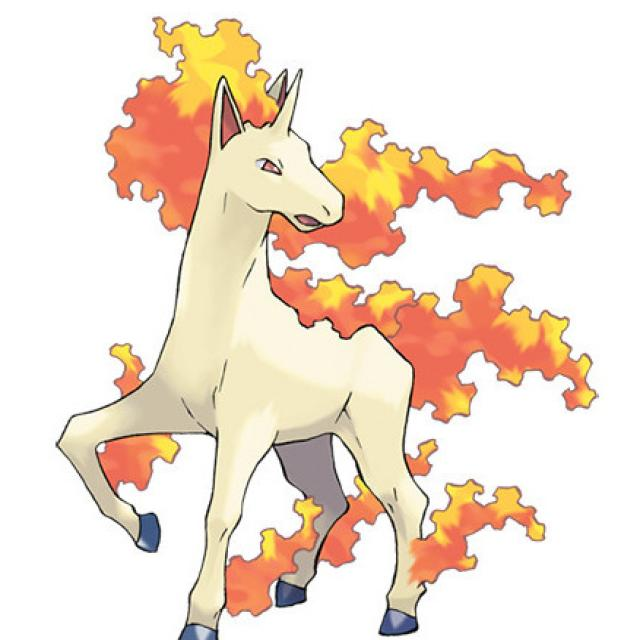Rapidash: (100, 19, 430, 640)
